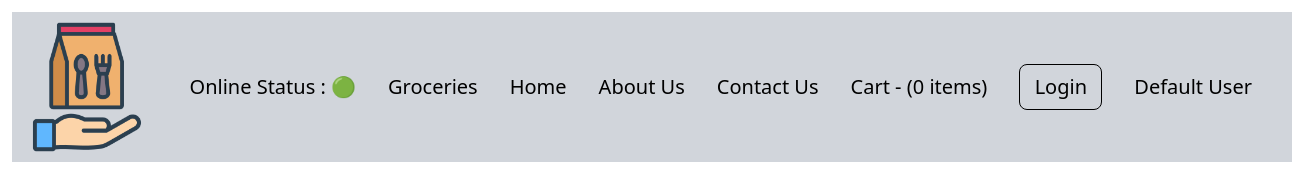
Should login button change to logout when clicked
Click the button "Login". click: (1061, 87)
box: [1019, 64, 1102, 110]
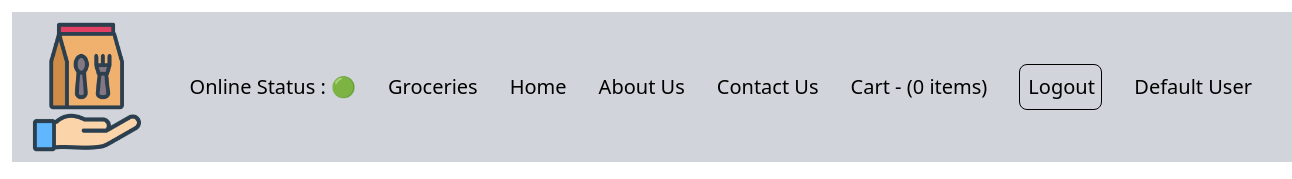
Now the button "Logout" is shown, box [1019, 64, 1102, 110]
